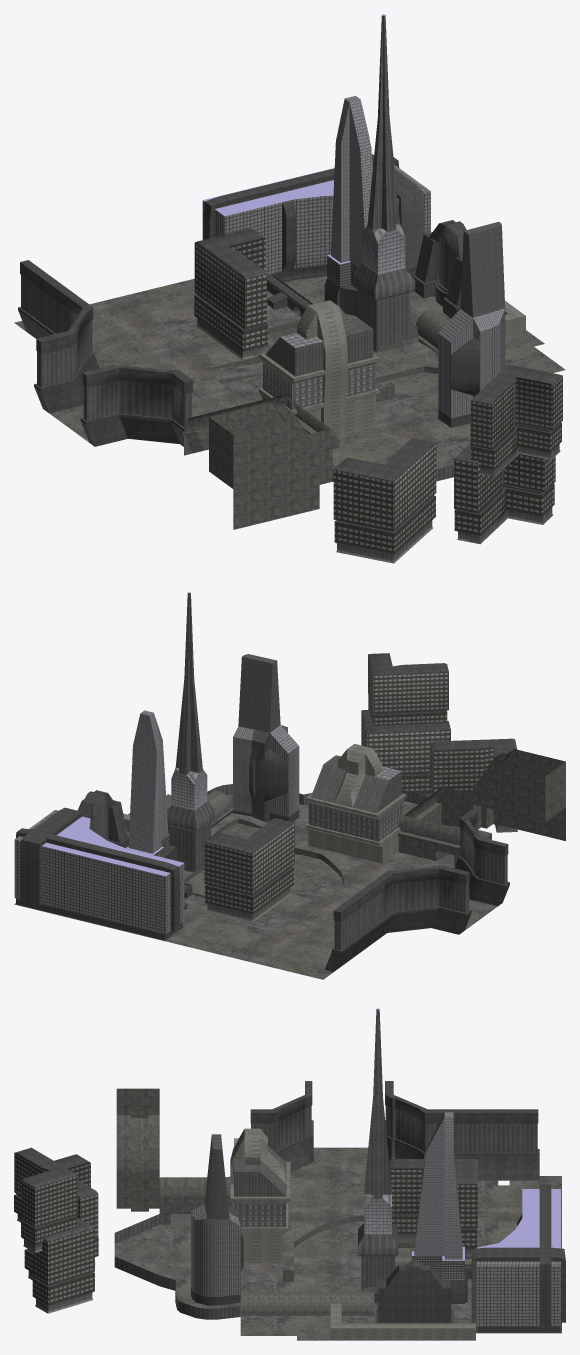
Rendered from baseplate_test.fbx.
3 views of the same model, one above another, from view 1: azimuth 30°, elevation 25°; view 2: azimuth 150°, elevation 25°; view 3: azimuth 270°, elevation 25° (orthographic). The views are drawn at different scales.
Visible parts, largest first — view 1: baseplate, APME Walls, tunnels 2, casino, building1, apartments.002, corpo, the spire, apartments, apartments.004, corporate tower big, apartments.003 (+3 smaller); view 2: baseplate, casino, APME Walls, tunnels 2, building1, corpo, apartments, the spire, apartments.004, corporate tower big, apartments.003, apartments.002 (+2 smaller); view 3: baseplate, APME Walls, casino, tunnels 2, building1, corporate tower big, corpo, the spire, apartments.004, apartments.003, apartments, brutalist structure (+4 smaller).
Part boxes in pixels (x1,y1,x2,y2): baseplate: (14,276,565,469); APME Walls: (18,260,203,453); tunnels 2: (183,394,338,529); casino: (202,154,430,282); building1: (259,300,379,439); apartments.002: (333,438,436,563); corpo: (438,221,505,427); the spire: (352,14,417,346); apartments: (194,228,267,359); apartments.004: (470,365,562,477); corporate tower big: (324,96,372,316); apartments.003: (454,443,555,544); baseplate: (127,794,497,979); casino: (14,807,184,941); APME Walls: (325,809,509,971); tunnels 2: (398,749,565,865); building1: (305,744,406,863); corpo: (232,654,299,822); apartments: (204,818,294,922); the spire: (167,592,215,870); apartments.004: (368,653,448,725); corporate tower big: (126,710,176,860); apartments.003: (361,709,450,797); apartments.002: (431,738,517,832); baseplate: (114,1147,561,1340); APME Walls: (250,1081,539,1180); casino: (471,1184,565,1333); tunnels 2: (116,1088,231,1224); building1: (230,1128,290,1262); corporate tower big: (412,1112,467,1303); corpo: (191,1134,243,1305); the spire: (358,1008,398,1302); apartments.004: (14,1147,77,1252); apartments.003: (24,1217,94,1313); apartments: (389,1159,477,1256); brutalist structure: (375,1260,453,1323).
Size of the model in its own units: 197105 by 123254 by 164180.
15 materials, 14 textured.
